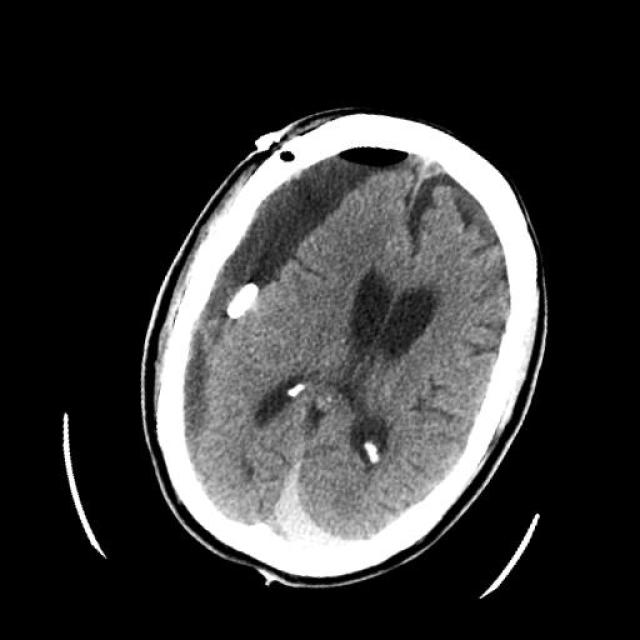Subdural: (252, 440, 367, 580)
